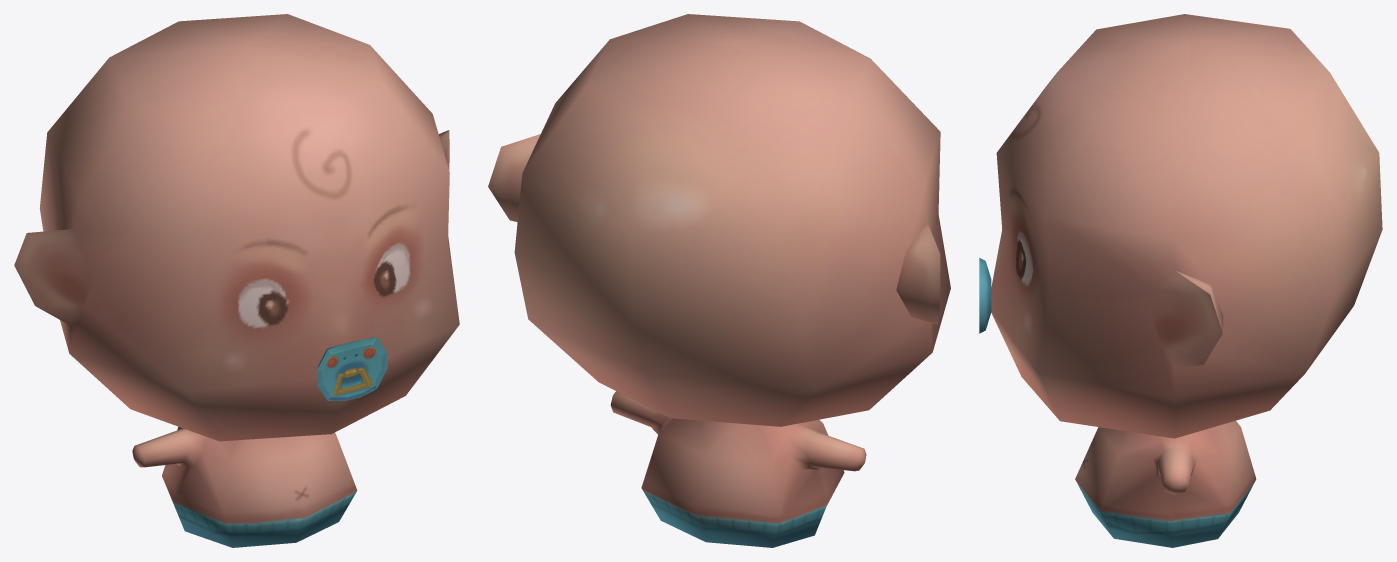
Rendered from baby_m.FBX.
3 views of the same model, side by side, from view 1: azimuth 30°, elevation 25°; view 2: azimuth 150°, elevation 25°; view 3: azimuth 270°, elevation 25° (orthographic). The views are drawn at different scales.
Parts seen in each view (by area): view 1: baby_m_head, baby_m_body; view 2: baby_m_head, baby_m_body; view 3: baby_m_head, baby_m_body.
Boxes of the visible parts, <box> form: baby_m_head: <box>14,14,459,441</box>; baby_m_body: <box>132,426,357,547</box>; baby_m_head: <box>488,14,950,426</box>; baby_m_body: <box>610,391,866,547</box>; baby_m_head: <box>979,14,1382,438</box>; baby_m_body: <box>1075,420,1256,547</box>.
Size of the model in its own units: 112 by 118 by 88.9.
Materials: 1 (1 with a texture image).
